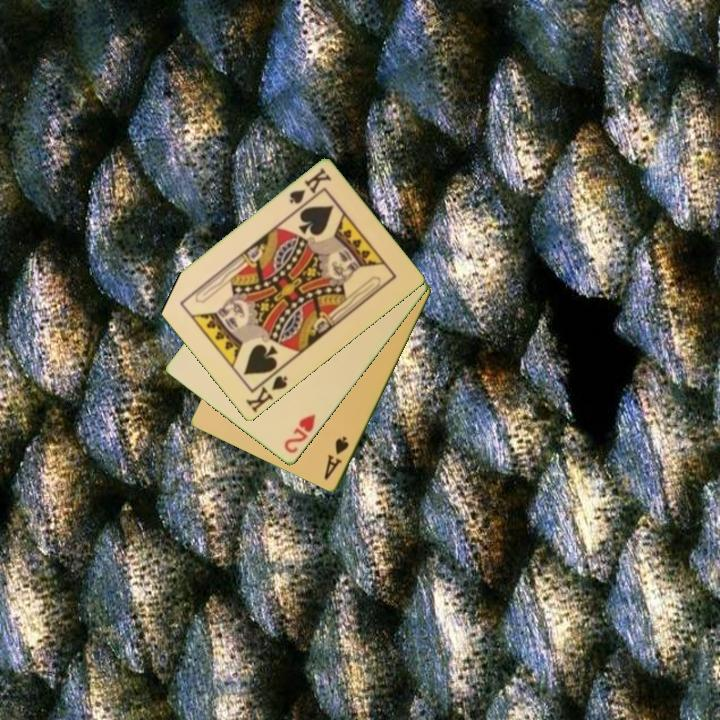2h: (280, 411, 319, 457)
As: (321, 433, 352, 483)
Ks: (242, 372, 291, 416), (285, 165, 335, 207)
